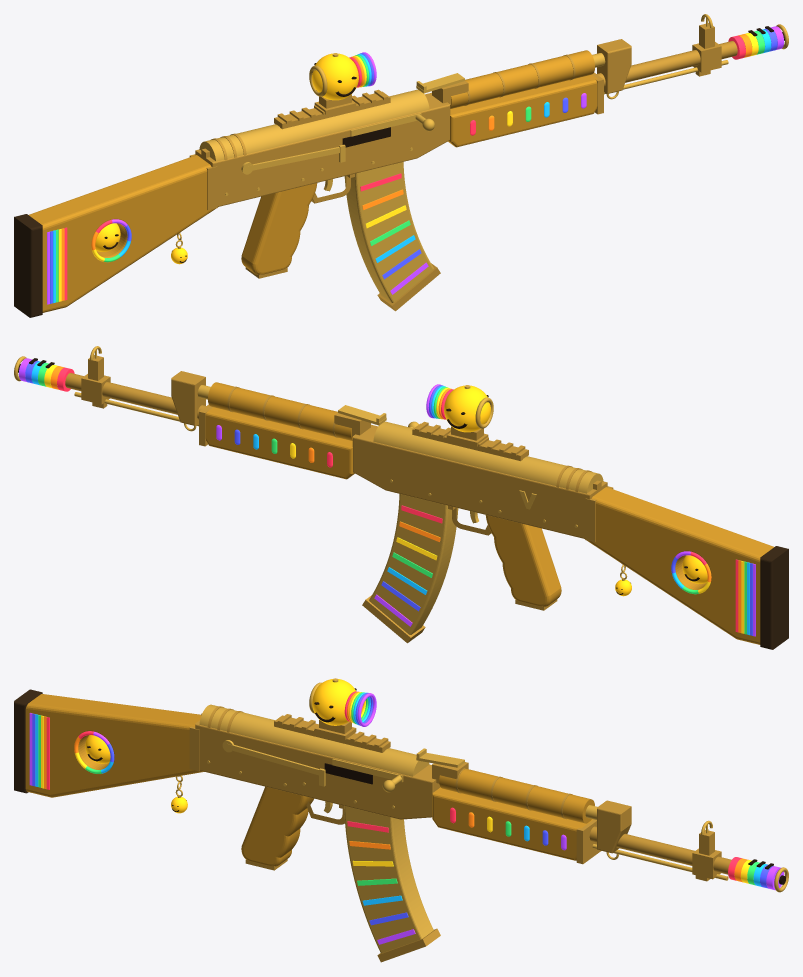
The model's file is verity-a.glb.
The picture shows the model from 3 angles, top to bottom: view 1: azimuth 30°, elevation 25°; view 2: azimuth 150°, elevation 25°; view 3: azimuth 330°, elevation 25°; orthographic projection.
Parts seen in each view (by area): view 1: stock, receiver, magazine, lower_handguard, dust_cover, pistol_grip, upper_handguard, butt_pad, verity_optic, barrel, gas_block, top_rail (+3 smaller); view 2: stock, receiver, magazine, lower_handguard, dust_cover, pistol_grip, upper_handguard, butt_pad, verity_optic, barrel, gas_block, top_rail (+2 smaller); view 3: stock, receiver, magazine, lower_handguard, dust_cover, pistol_grip, upper_handguard, barrel, gas_block, verity_optic, butt_pad, top_rail (+5 smaller).
Part boxes in pixels (bbox=[...]): stock: bbox=[29, 155, 217, 312]; receiver: bbox=[195, 92, 450, 206]; magazine: bbox=[344, 162, 433, 302]; lower_handguard: bbox=[448, 74, 597, 147]; dust_cover: bbox=[199, 89, 429, 161]; pistol_grip: bbox=[241, 183, 317, 274]; upper_handguard: bbox=[450, 50, 594, 108]; butt_pad: bbox=[14, 214, 42, 317]; verity_optic: bbox=[312, 53, 358, 100]; barrel: bbox=[597, 41, 737, 87]; gas_block: bbox=[597, 39, 631, 93]; top_rail: bbox=[274, 91, 390, 129]; stock: bbox=[585, 487, 773, 644]; receiver: bbox=[352, 424, 607, 538]; magazine: bbox=[369, 494, 458, 634]; lower_handguard: bbox=[205, 407, 354, 479]; dust_cover: bbox=[373, 421, 603, 493]; pistol_grip: bbox=[485, 515, 561, 606]; upper_handguard: bbox=[208, 382, 352, 440]; butt_pad: bbox=[760, 546, 788, 649]; verity_optic: bbox=[444, 385, 490, 432]; barrel: bbox=[65, 373, 205, 419]; gas_block: bbox=[171, 371, 205, 425]; top_rail: bbox=[412, 423, 528, 461]; stock: bbox=[25, 694, 204, 797]; receiver: bbox=[195, 720, 440, 819]; magazine: bbox=[344, 806, 433, 953]; lower_handguard: bbox=[432, 787, 593, 860]; dust_cover: bbox=[199, 704, 429, 776]; pistol_grip: bbox=[241, 786, 313, 866]; upper_handguard: bbox=[439, 769, 594, 823]; barrel: bbox=[589, 826, 731, 874]; gas_block: bbox=[597, 800, 631, 853]; verity_optic: bbox=[312, 679, 355, 725]; butt_pad: bbox=[14, 689, 42, 793]; top_rail: bbox=[274, 715, 390, 752].
Size of the model in its own units: 1.2 by 0.3969 by 0.0973.
